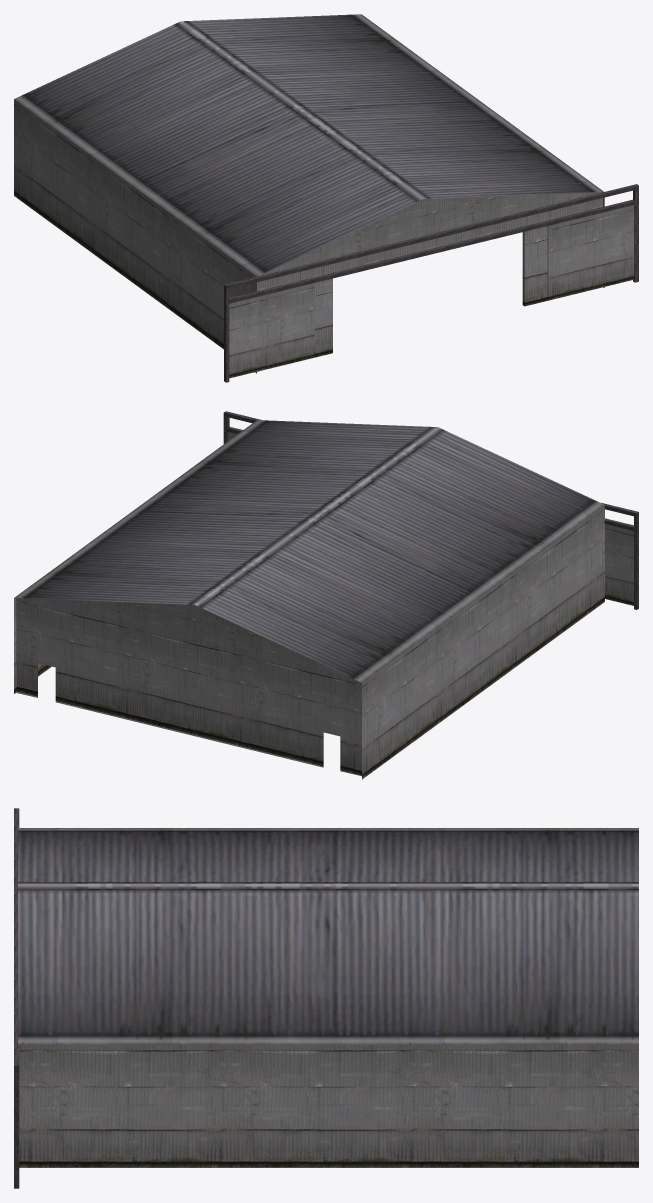
File: MHangar1.glb
The picture shows the model from 3 angles, top to bottom: view 1: azimuth 30°, elevation 25°; view 2: azimuth 150°, elevation 25°; view 3: azimuth 270°, elevation 25°; orthographic projection. The views are drawn at different scales.
Parts seen in each view (by area): view 1: _MHngar1; view 2: _MHngar1; view 3: _MHngar1.
Boxes of the visible parts, x1,y1,x2,y2 form: _MHngar1: (14,14,638,382); _MHngar1: (14,411,638,779); _MHngar1: (14,808,638,1188).
Size of the model in its own units: 44.17 by 13.7 by 45.3.
Materials: 2 (2 with a texture image).
